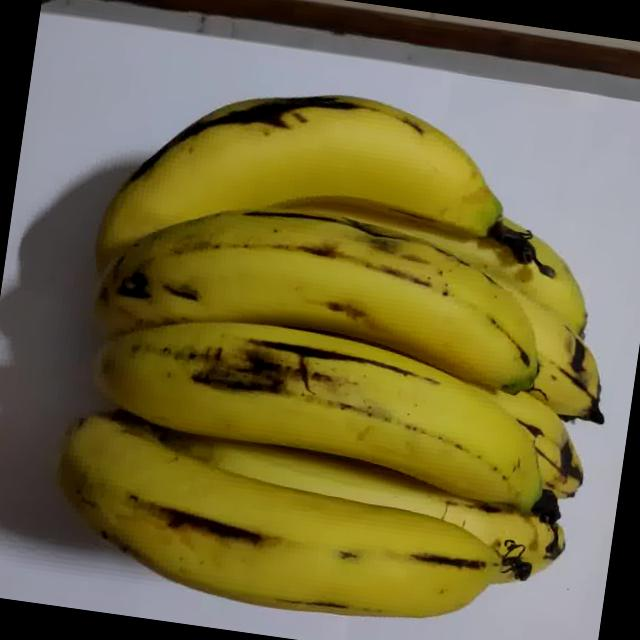banana_pacche: (34, 26, 640, 634)
